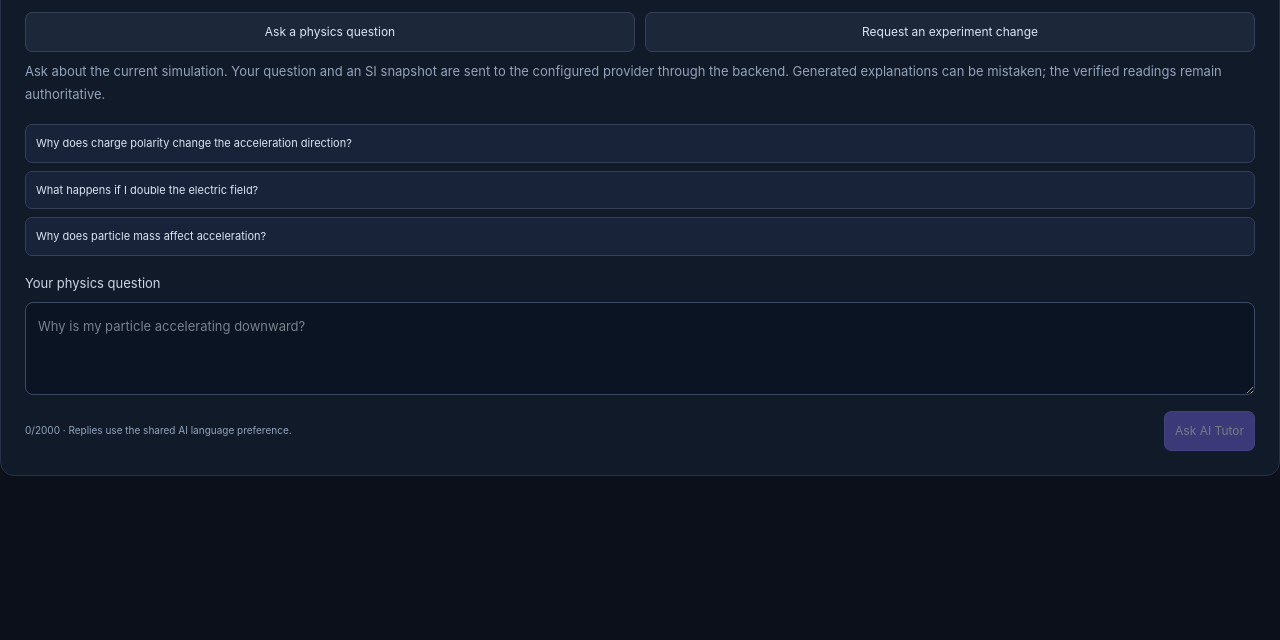
Test: cancellation discards the proposal without mutation
Click the button "Request an experiment change" at (950, 32), box [645,12,1255,52]
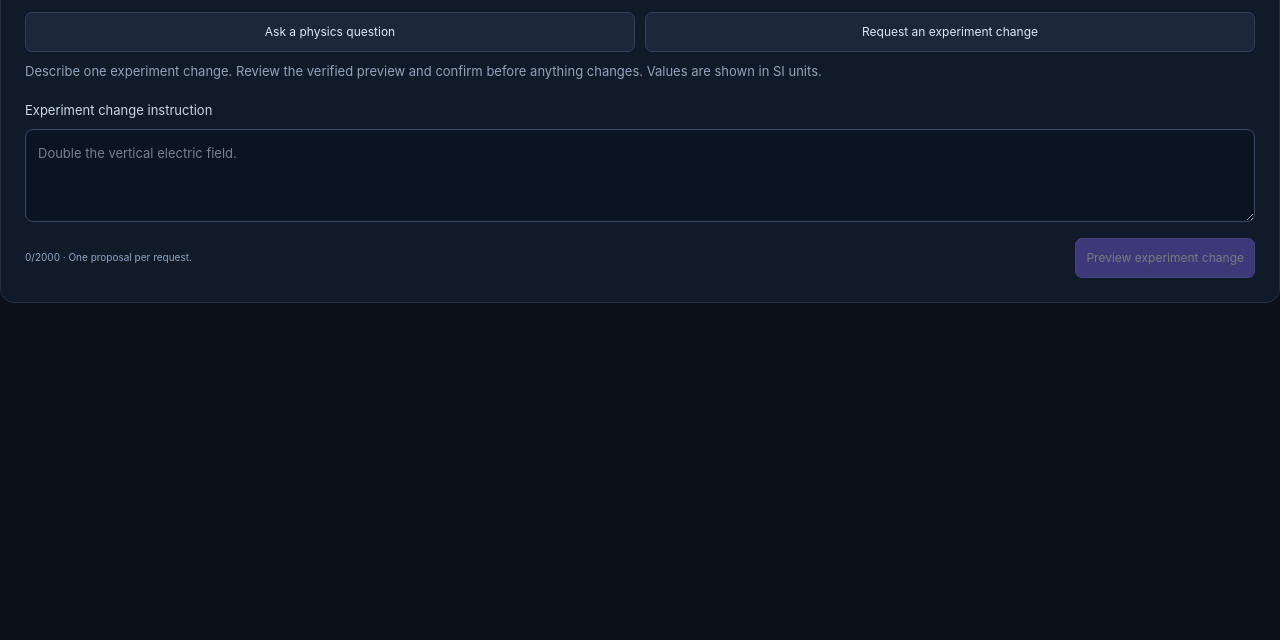
Type "Double Ey." into the text box labelled "Experiment change instruction" at (640, 176), box [25,129,1255,222]
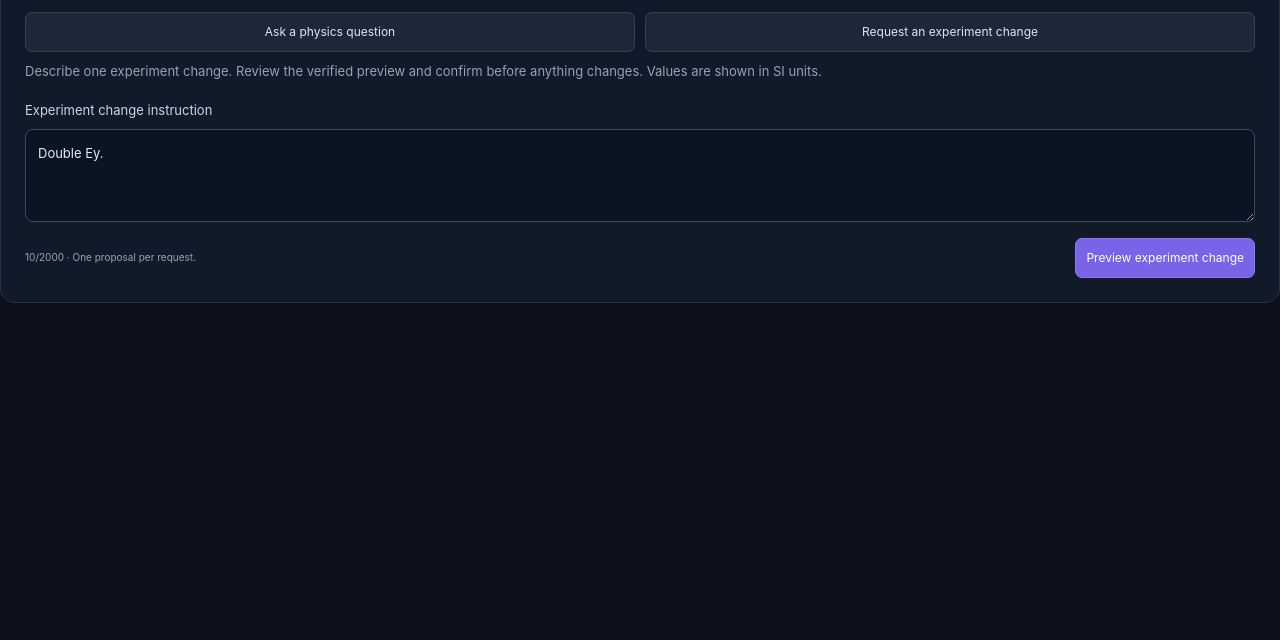
Click the button "Preview experiment change" at (1165, 258), box [1075,238,1255,278]
(page scrolled)
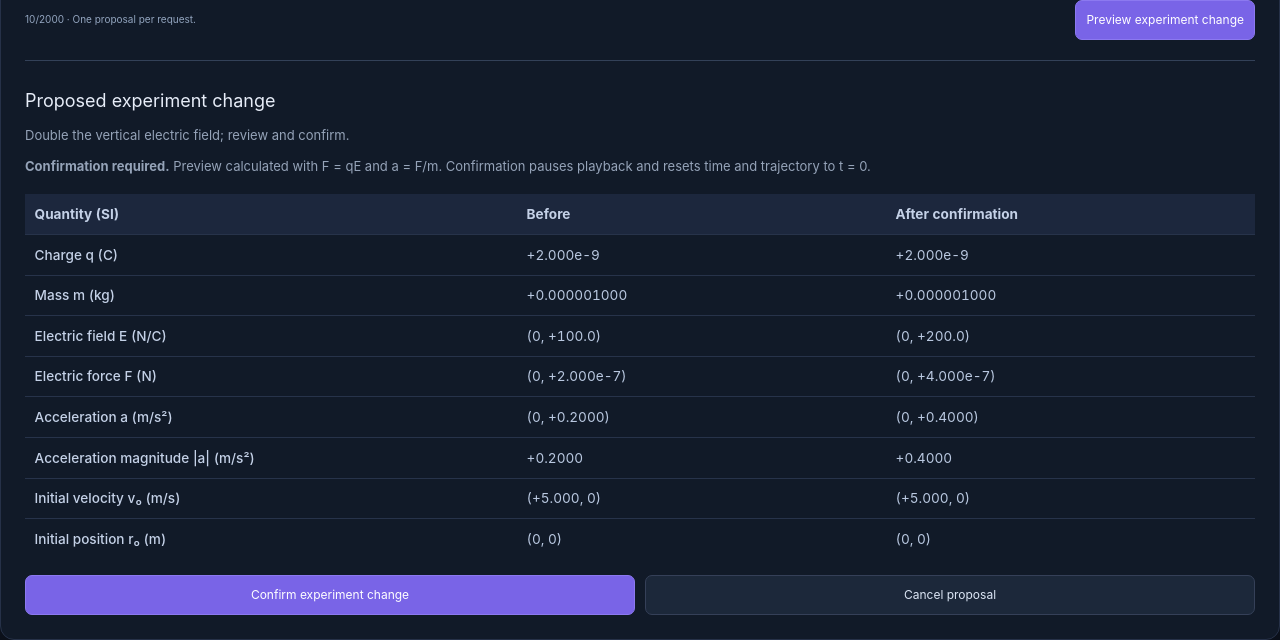
Check: the element named "AI action proposal" is shown
Click the button "Cancel proposal" at (950, 595), box [645,575,1255,615]
(page scrolled)
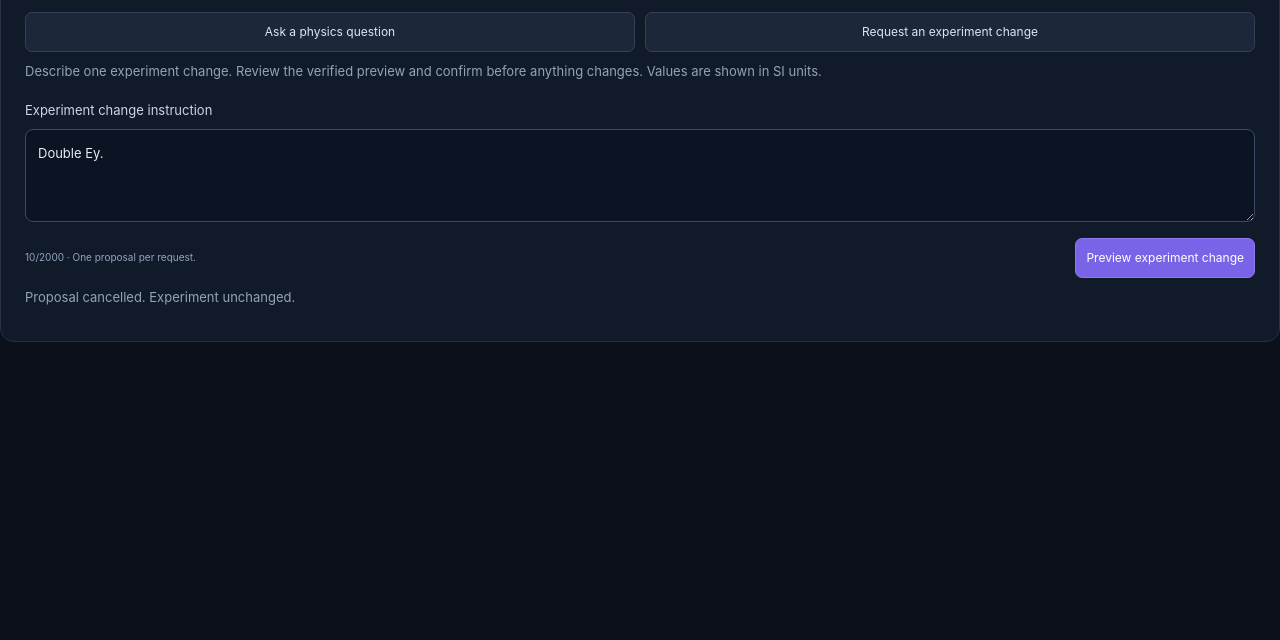
Check: the text "Proposal cancelled. Experiment unchanged." is shown, box [25,289,295,305]
